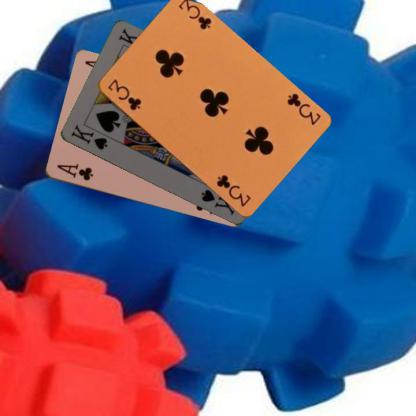3c: (284, 90, 322, 127), (104, 76, 142, 112)
Ac: (54, 162, 94, 182)
Ks: (68, 122, 109, 151)
